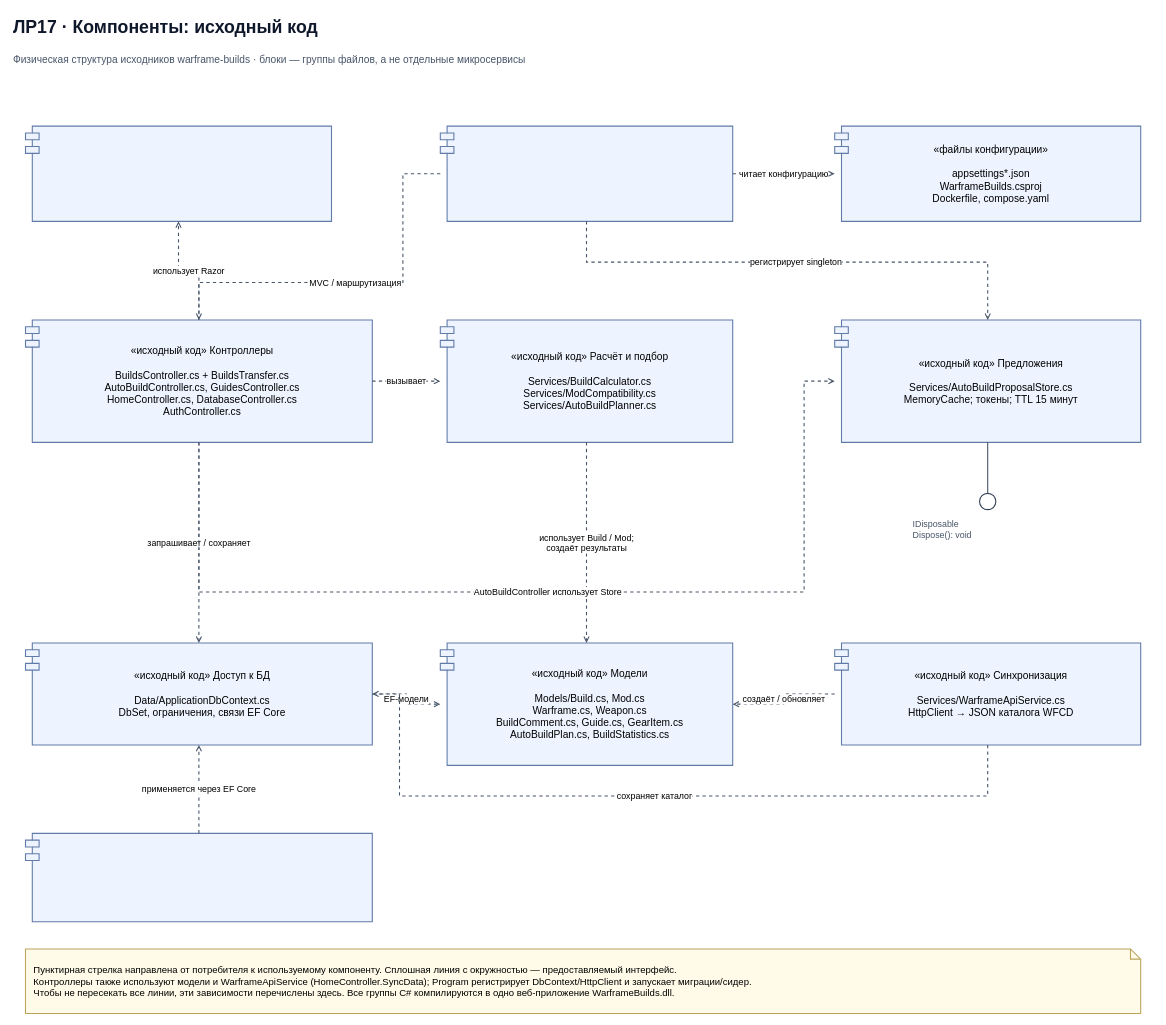
The diagram is 1166 pixels wide and 1025 high, and some of its shapes have lost their labels. Each missing label, with the centre of its shape:
"«исходный код» Представления Views/**/*.cshtml Views/Shared/_Layout.cshtml" belongs at (x=178, y=173).
"«исходный код» Схема и данные Migrations/*.cs Services/CatalogSeeder.cs" belongs at (x=199, y=877).
"«исходный код» Точка входа Program.cs MVC, DI, авторизация, миграции" belongs at (x=586, y=173).
